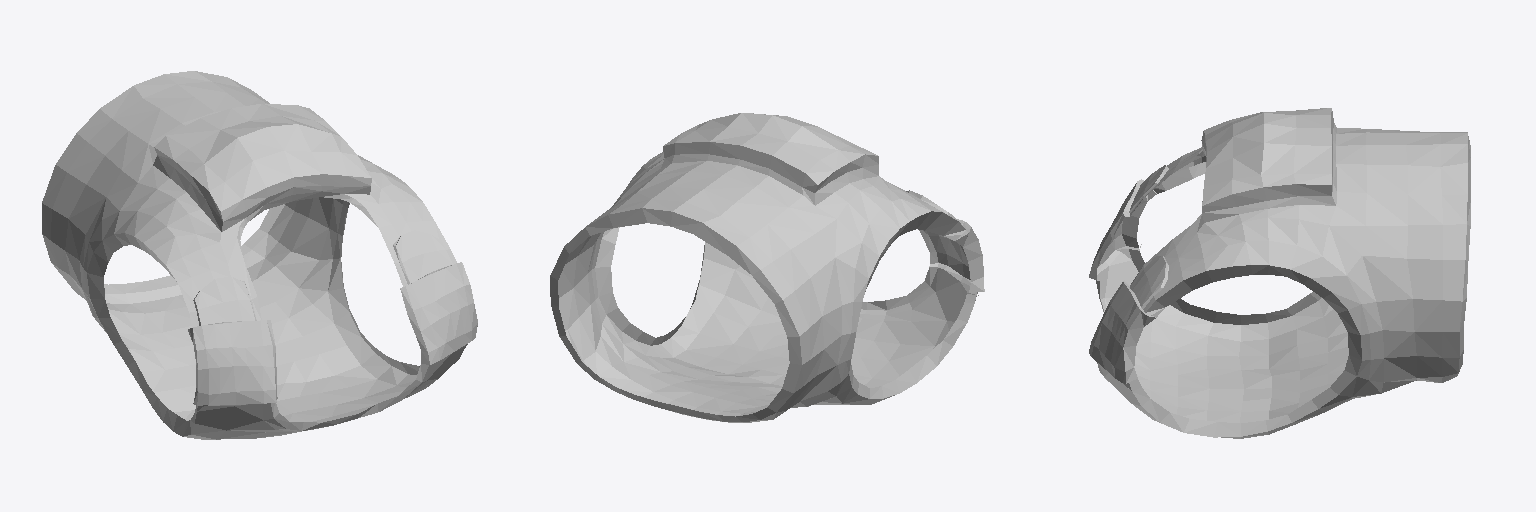
File: KevlarNice.obj
The picture shows the model from 3 angles: view 1: azimuth 30°, elevation 25°; view 2: azimuth 150°, elevation 25°; view 3: azimuth 270°, elevation 25°; orthographic projection.
Parts seen in each view (by area): view 1: Vest; view 2: Vest; view 3: Vest.
Boxes of the visible parts, x1=… form: Vest: x1=42, y1=71, x2=477, y2=439; Vest: x1=550, y1=113, x2=984, y2=422; Vest: x1=1089, y1=108, x2=1470, y2=438.
Size of the model in its own units: 28.35 by 25.08 by 32.44.